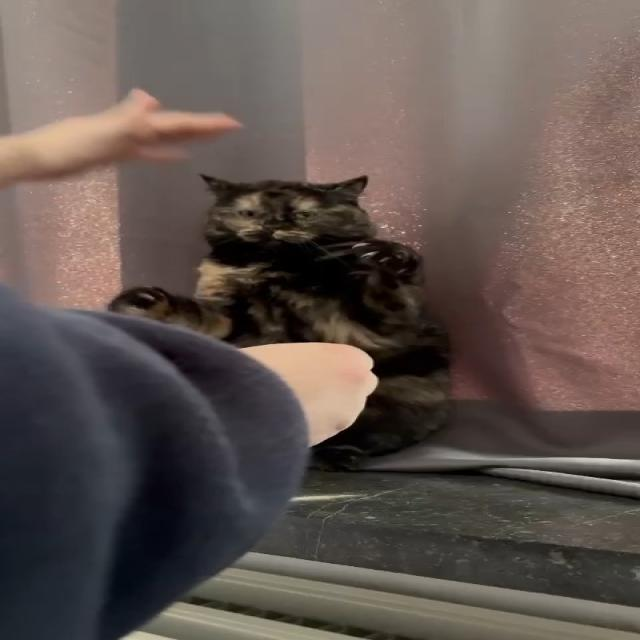authorized: (105, 171, 455, 471)
